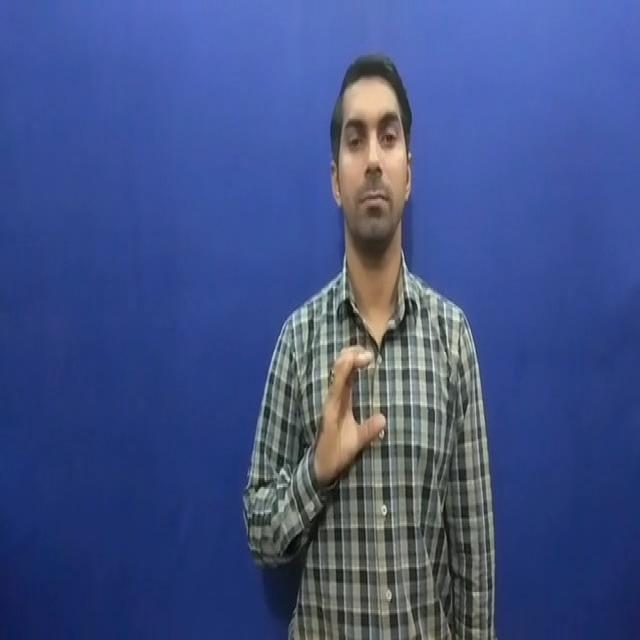pepper: (314, 346, 396, 470)
